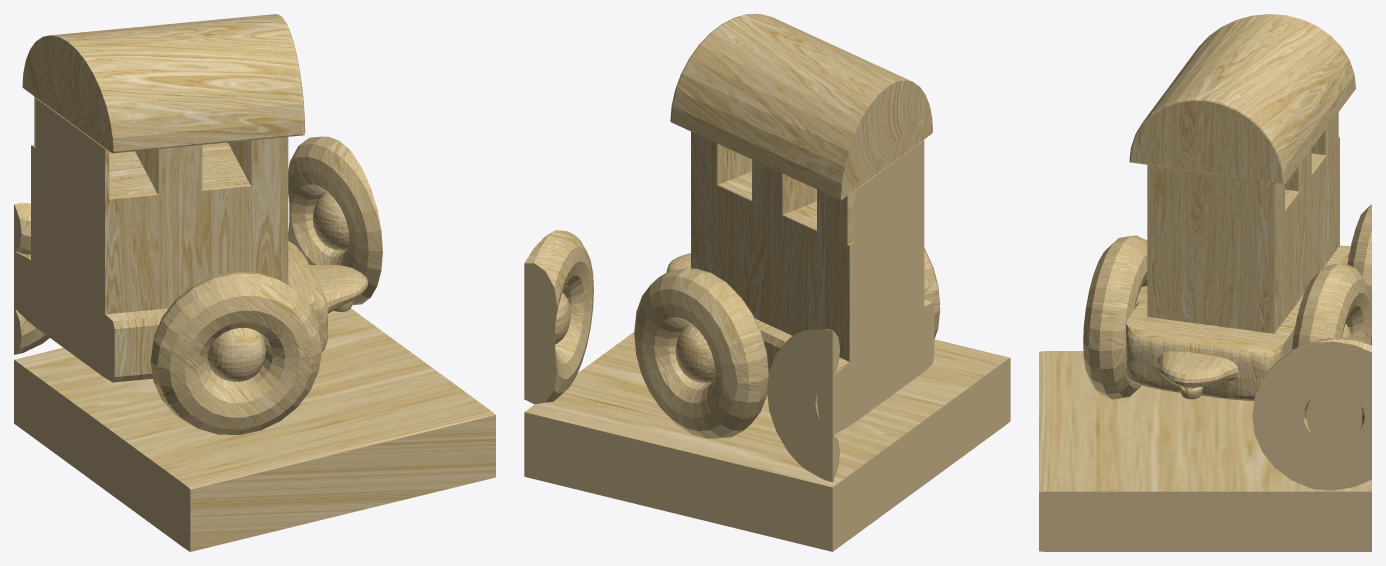
File: 7_Holzbahn.fbx
3 views of the same model, side by side, from view 1: azimuth 30°, elevation 25°; view 2: azimuth 150°, elevation 25°; view 3: azimuth 270°, elevation 25° (orthographic). The views are drawn at different scales.
Parts seen in each view (by area): view 1: Cube.016, Cube.058, Cube.062, Cube.060, Cube.061, Cube.070, Cube.063, Cube.057, Cube.069; view 2: Cube.016, Cube.058, Cube.062, Cube.059, Cube.061, Cube.070, Cube.057, Cube.060; view 3: Cube.016, Cube.058, Cube.062, Cube.070, Cube.061, Cube.060, Cube.059, Cube.063, Cube.069, Cube.057.
Part boxes in pixels (x1,y1,x2,y2): Cube.016: [14, 308, 495, 551]; Cube.058: [31, 96, 288, 314]; Cube.062: [22, 14, 305, 153]; Cube.060: [150, 271, 322, 434]; Cube.061: [14, 241, 328, 382]; Cube.070: [288, 136, 382, 305]; Cube.063: [309, 264, 367, 313]; Cube.057: [14, 203, 49, 354]; Cube.069: [312, 193, 349, 250]; Cube.016: [524, 332, 1010, 551]; Cube.058: [691, 131, 924, 361]; Cube.062: [670, 14, 932, 200]; Cube.059: [634, 268, 768, 438]; Cube.061: [675, 299, 934, 434]; Cube.070: [524, 230, 593, 404]; Cube.057: [767, 329, 839, 482]; Cube.060: [924, 248, 940, 338]; Cube.016: [1039, 351, 1371, 551]; Cube.058: [1147, 112, 1339, 333]; Cube.062: [1129, 14, 1356, 183]; Cube.070: [1252, 337, 1371, 490]; Cube.061: [1126, 245, 1352, 401]; Cube.060: [1083, 235, 1147, 399]; Cube.059: [1292, 263, 1371, 420]; Cube.063: [1157, 351, 1238, 399]; Cube.069: [1306, 389, 1362, 442]; Cube.057: [1347, 204, 1371, 344].
Bounding box in the file's own units: 500 × 659 × 500.
